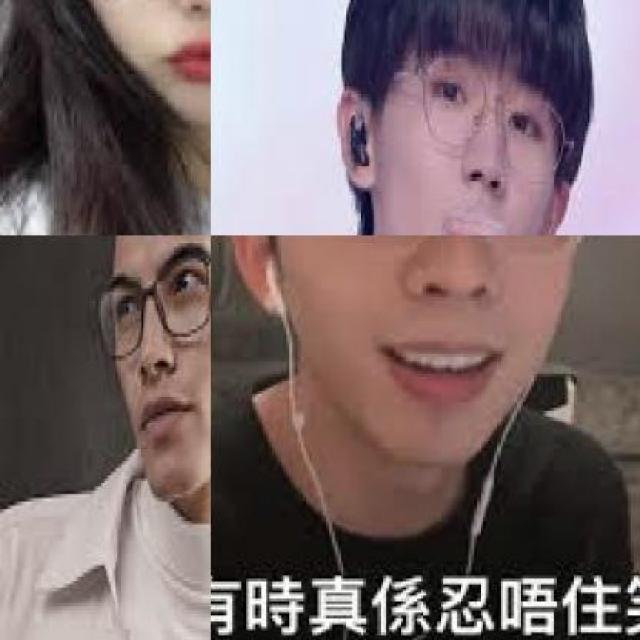Glasses: (406, 56, 581, 174), (306, 235, 602, 277), (92, 262, 210, 362)
